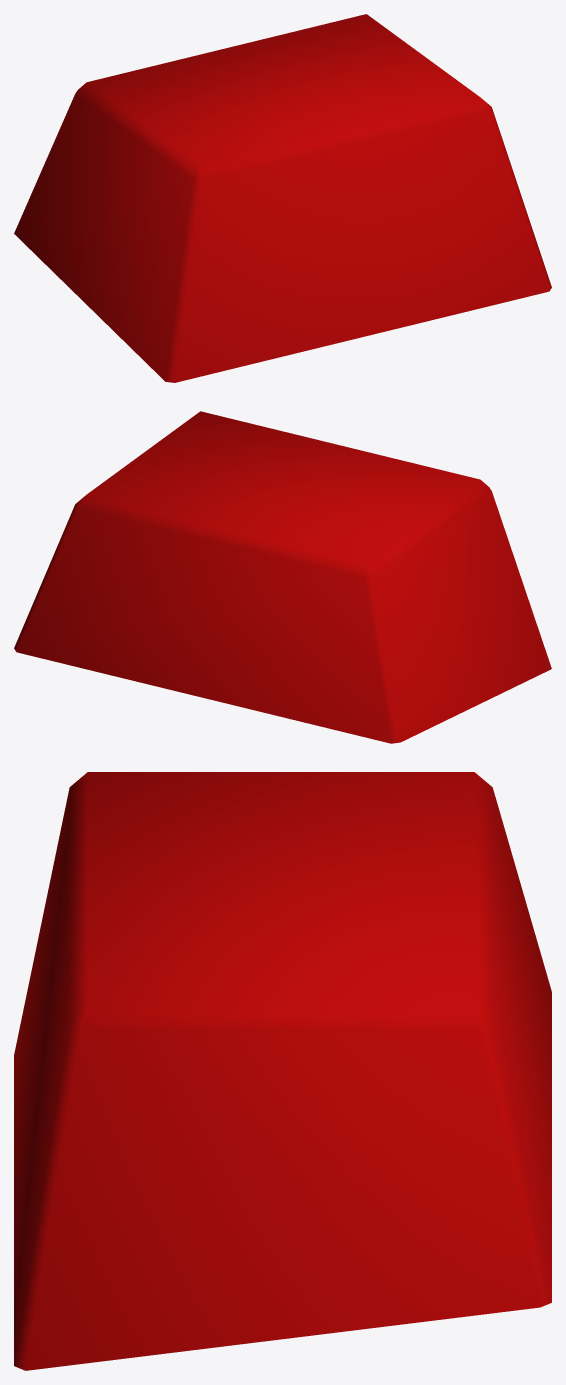
File: tab.fbx
The picture shows the model from 3 angles, top to bottom: view 1: azimuth 30°, elevation 25°; view 2: azimuth 150°, elevation 25°; view 3: azimuth 270°, elevation 25°; orthographic projection. The views are drawn at different scales.
Visible parts, largest first — view 1: Empty_Mesh; view 2: Empty_Mesh; view 3: Empty_Mesh.
Part boxes in pixels (x1,y1,x2,y2): Empty_Mesh: (14,14,551,382); Empty_Mesh: (14,411,551,743); Empty_Mesh: (14,772,551,1370).
Size of the model in its own units: 2.62 by 1.23 by 1.86.
